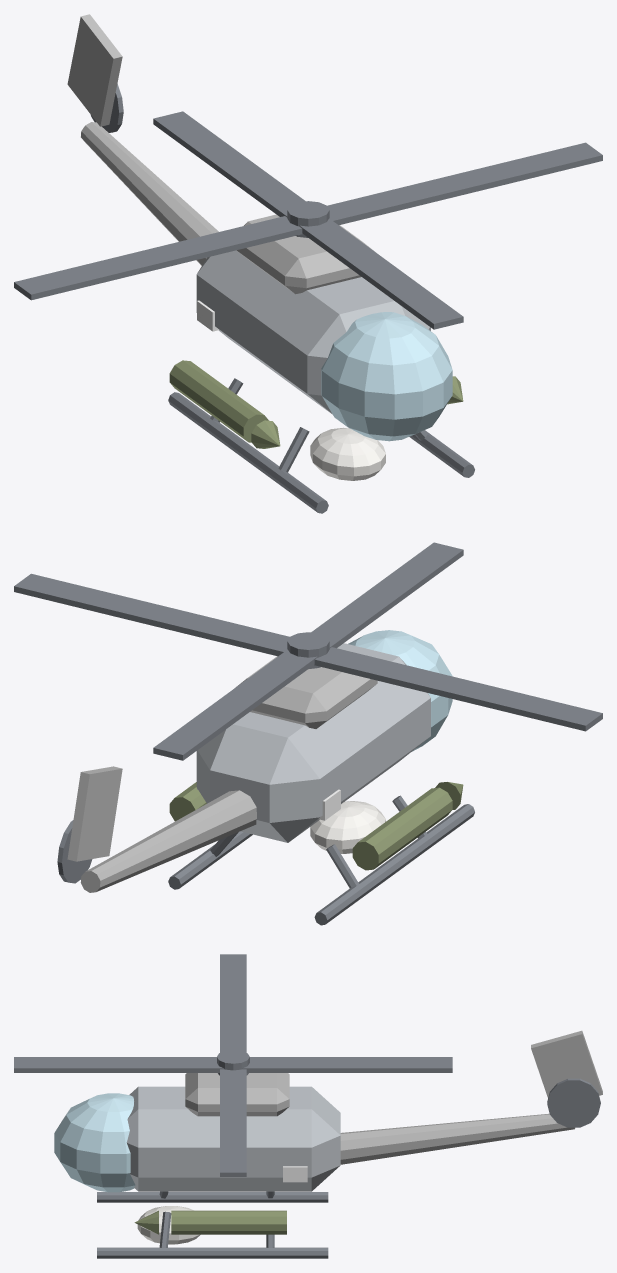
The model's file is navalheli.glb.
3 renders of one model, top to bottom at view 1: azimuth 30°, elevation 25°; view 2: azimuth 150°, elevation 25°; view 3: azimuth 270°, elevation 25°, orthographic. The views are drawn at different scales.
Visible parts, largest first — view 1: main, rotor; view 2: main, rotor; view 3: main, rotor.
Part boxes in pixels (left/top/right/bottom): main: left=67, top=14, right=474, bottom=513; rotor: left=14, top=111, right=602, bottom=329; main: left=57, top=630, right=474, bottom=925; rotor: left=14, top=542, right=602, bottom=760; main: left=54, top=1030, right=602, bottom=1258; rotor: left=14, top=954, right=452, bottom=1176.
Size of the model in its own units: 1.25 by 0.5574 by 1.43.
